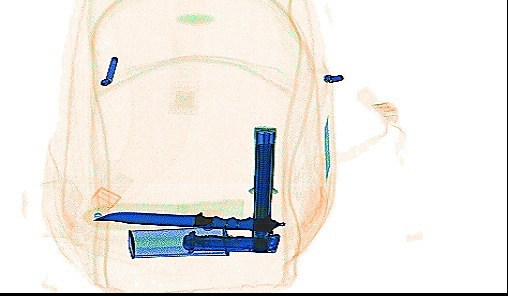knife: (80, 197, 286, 232), (179, 228, 280, 253)
zippooil: (125, 221, 230, 259)
